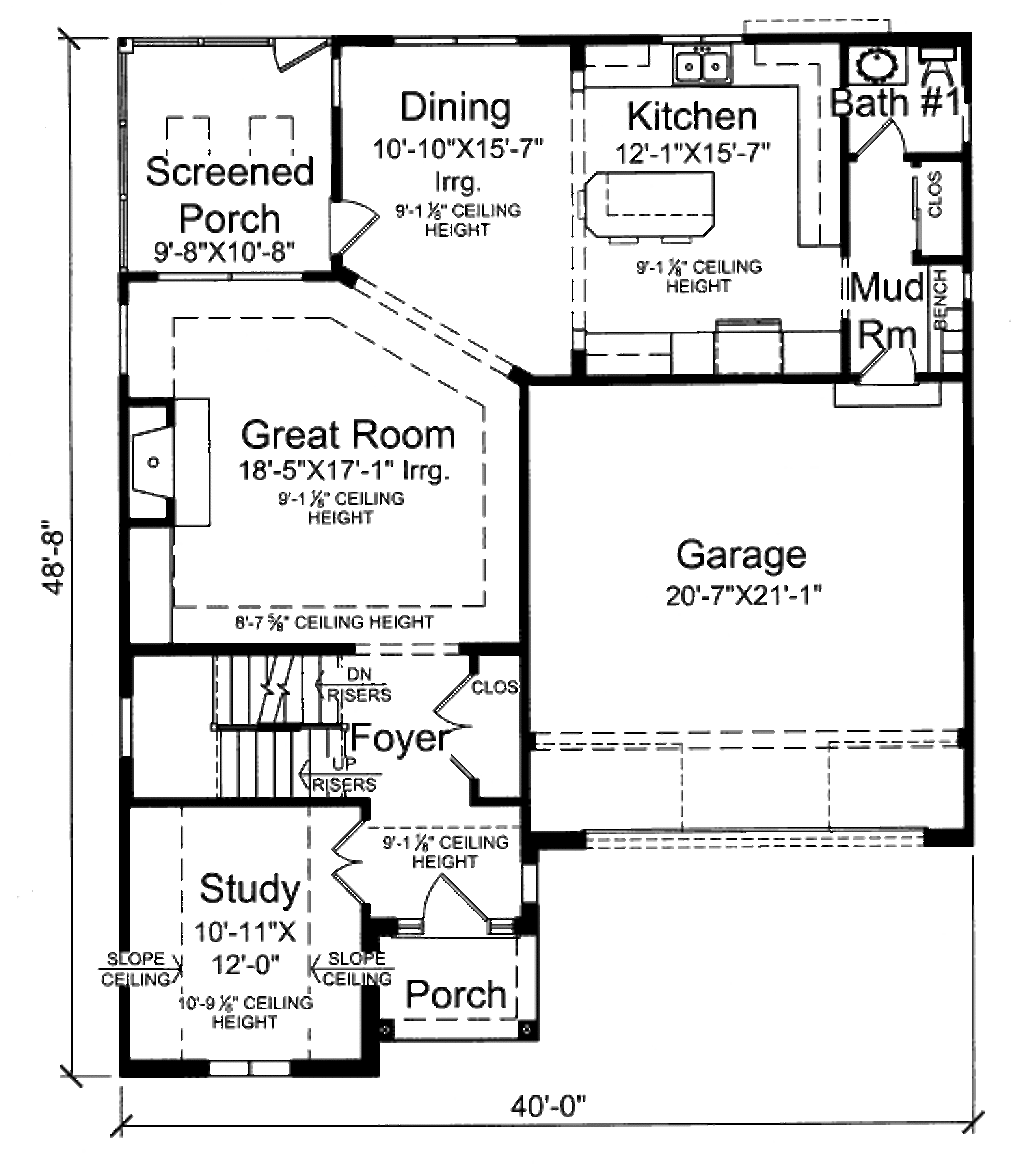door: (418, 666, 478, 772), (417, 866, 500, 937), (855, 328, 926, 401), (327, 817, 377, 912), (322, 201, 382, 261), (264, 28, 327, 79), (853, 114, 909, 168)
kitchen_bar: (558, 161, 735, 254)
large_sink: (915, 39, 960, 119)
small_sink: (840, 32, 917, 94)
stairs: (195, 637, 373, 797)
twin_sink: (660, 28, 749, 95)
window: (160, 263, 315, 292), (386, 28, 515, 54), (113, 699, 144, 765), (111, 303, 135, 377)
